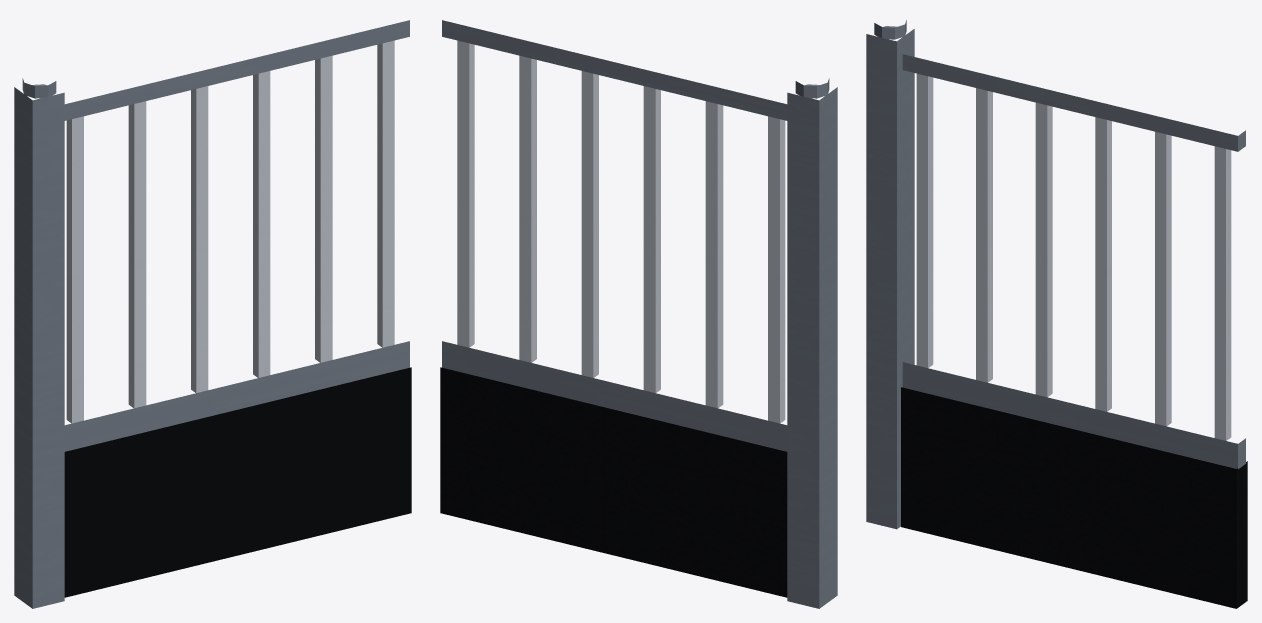
File: tt_play_fence_kick_096.glb
3 renders of one model, left to right at view 1: azimuth 30°, elevation 25°; view 2: azimuth 150°, elevation 25°; view 3: azimuth 330°, elevation 25°, orthographic. The views are drawn at different scales.
Visible parts, largest first — view 1: Kick, Picket, Post, RailLow, RailTop; view 2: Kick, Picket, Post, RailLow, RailTop; view 3: Kick, Picket, Post, RailLow, RailTop.
Boxes of the visible parts, x1,y1,x2,y2 form: Kick: (64, 367, 411, 597); Picket: (66, 40, 394, 423); Post: (14, 87, 64, 608); RailLow: (64, 341, 409, 451); RailTop: (64, 20, 409, 120); Kick: (440, 367, 787, 597); Picket: (457, 40, 785, 423); Post: (787, 87, 837, 608); RailLow: (442, 341, 787, 451); RailTop: (442, 20, 787, 120); Kick: (901, 387, 1247, 608); Picket: (916, 73, 1231, 440); Post: (866, 29, 914, 529); RailLow: (902, 362, 1245, 469); RailTop: (902, 54, 1245, 151).
Size of what is drawn, in the model's own units: 0.96 by 1.25 by 0.08.
Materials: 3 (3 with a texture image).
